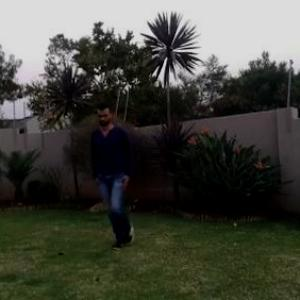follow: (95, 99, 134, 237)
